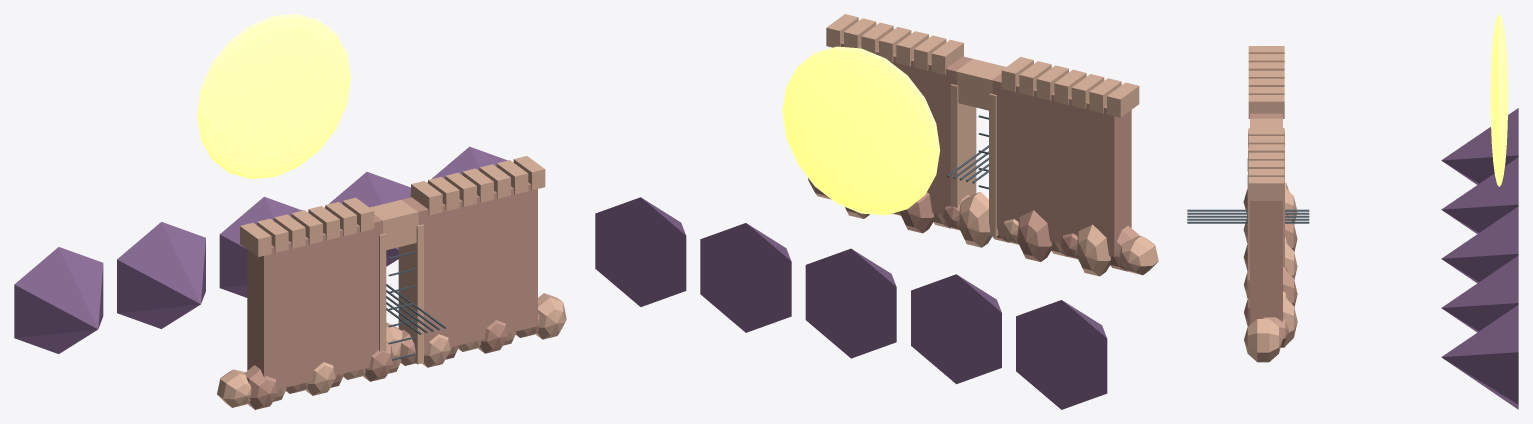
Rendered from vaisgard_muralla_r4.glb.
3 renders of one model, left to right at view 1: azimuth 30°, elevation 25°; view 2: azimuth 150°, elevation 25°; view 3: azimuth 270°, elevation 25°, orthographic. The views are drawn at different scales.
Visible parts, largest first — view 1: Modelo; view 2: Modelo; view 3: Modelo.
Part boxes in pixels (x1,y1,x2,y2): Modelo: [14, 14, 566, 409]; Modelo: [595, 14, 1158, 409]; Modelo: [1187, 14, 1518, 409].
Size of the model in its own units: 29.2 by 16.5 by 17.09.
